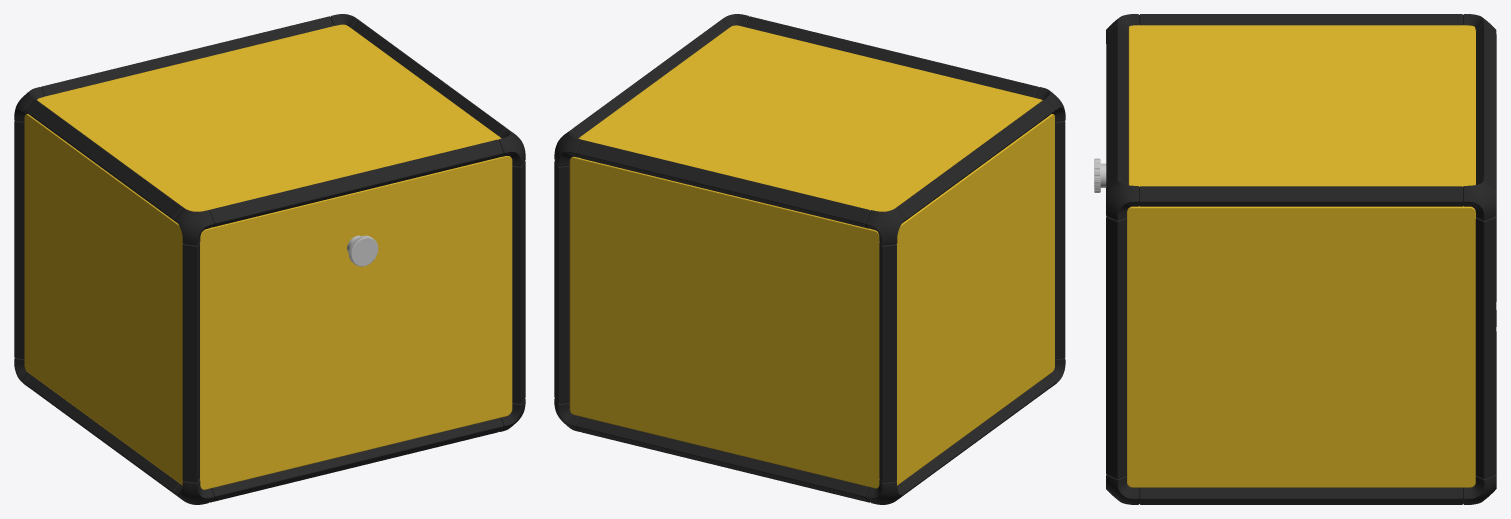
3 renders of one model, left to right at view 1: azimuth 30°, elevation 25°; view 2: azimuth 150°, elevation 25°; view 3: azimuth 270°, elevation 25°, orthographic. The views are drawn at different scales.
Visible parts, largest first — view 1: 420x374x330; view 2: 420x374x330; view 3: 420x374x330.
Part boxes in pixels (x1,y1,x2,y2): 420x374x330: (14,14,525,504); 420x374x330: (554,14,1065,504); 420x374x330: (1094,14,1496,504).
Size of the model in its own units: 0.4977 by 0.4066 by 0.4646.
